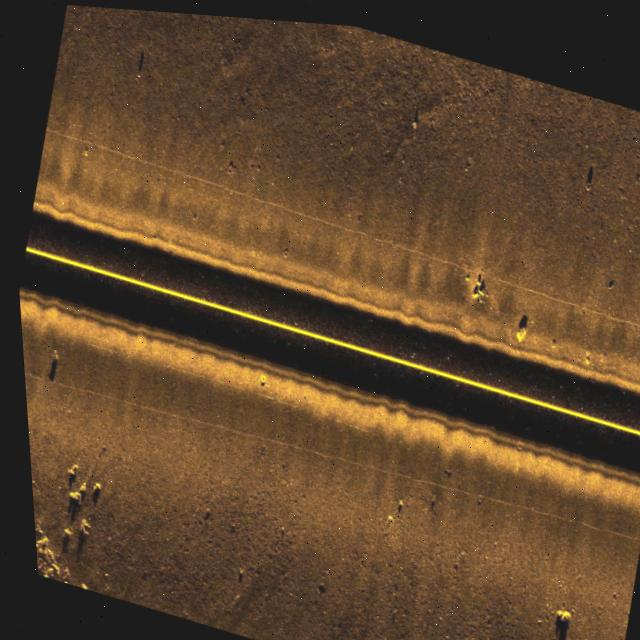mine: (502, 303, 530, 339)
other: (541, 591, 564, 633)
